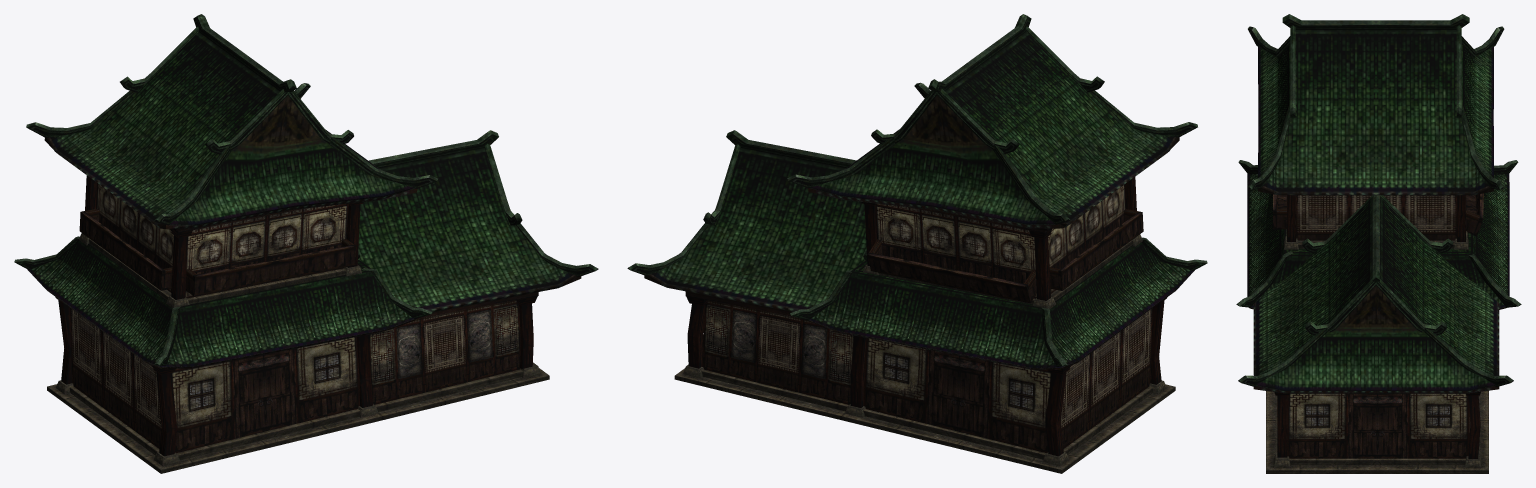
The model's file is c1-007-itemshop_02.glb.
The picture shows the model from 3 angles, left to right: view 1: azimuth 30°, elevation 25°; view 2: azimuth 150°, elevation 25°; view 3: azimuth 270°, elevation 25°; orthographic projection. The views are drawn at different scales.
Visible parts, largest first — view 1: c1-007-itemshop-01; view 2: c1-007-itemshop-01; view 3: c1-007-itemshop-01.
Boxes of the visible parts, x1,y1,x2,y2 form: c1-007-itemshop-01: (14,14,598,473); c1-007-itemshop-01: (627,14,1207,473); c1-007-itemshop-01: (1236,14,1521,473).
Bounding box in the file's own units: 18.33 × 13.88 × 10.48.
Materials: 2 (2 with a texture image).
